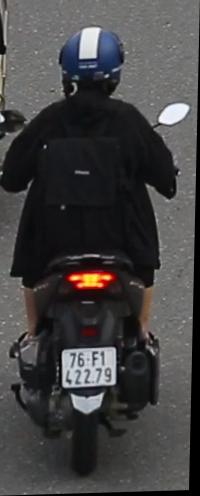LP: (60, 341, 122, 393)
helmet: (52, 18, 133, 107)
